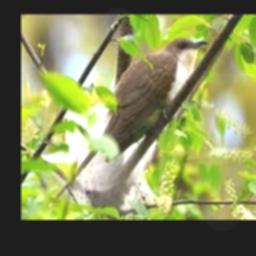Cuckoo: (55, 37, 208, 198)
